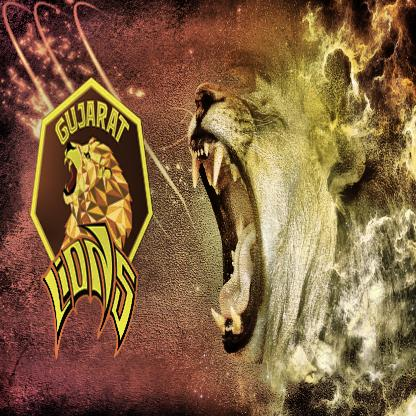Gujarat lions: (31, 77, 154, 357)
